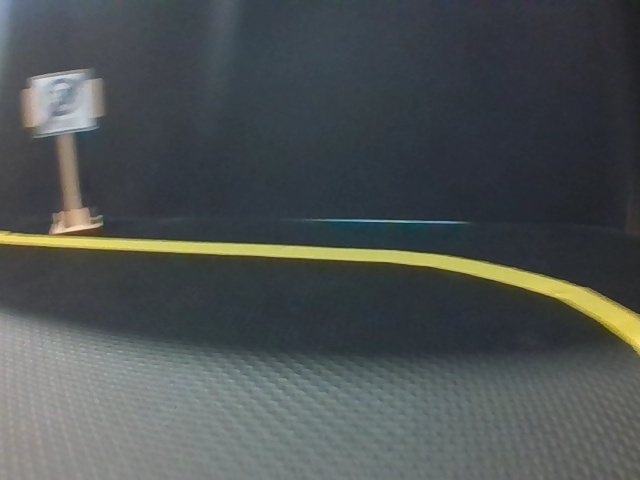no30: (32, 74, 96, 131)
